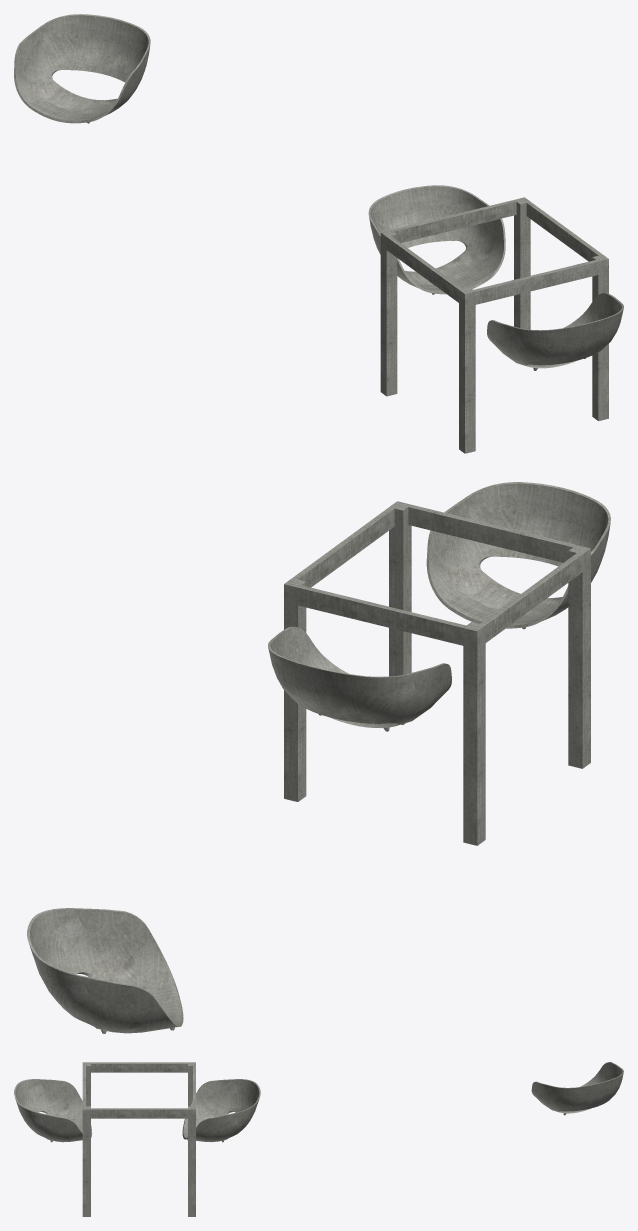
3 views of the same model, one above another, from view 1: azimuth 30°, elevation 25°; view 2: azimuth 150°, elevation 25°; view 3: azimuth 270°, elevation 25° (orthographic). The views are drawn at different scales.
Bounding box in the file's own units: 1 × 0.72 × 3.71.
Materials: 1 (1 with a texture image).
